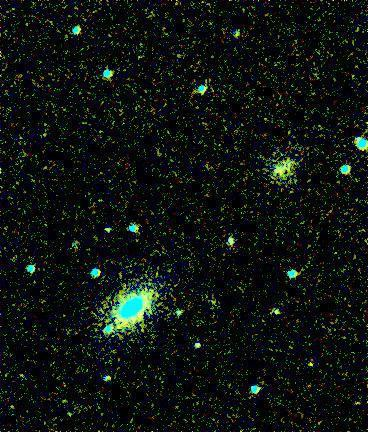star: (290, 350, 320, 380)
